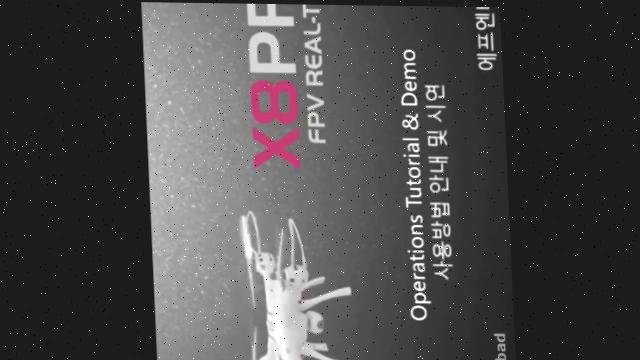drone: (231, 206, 355, 360)
